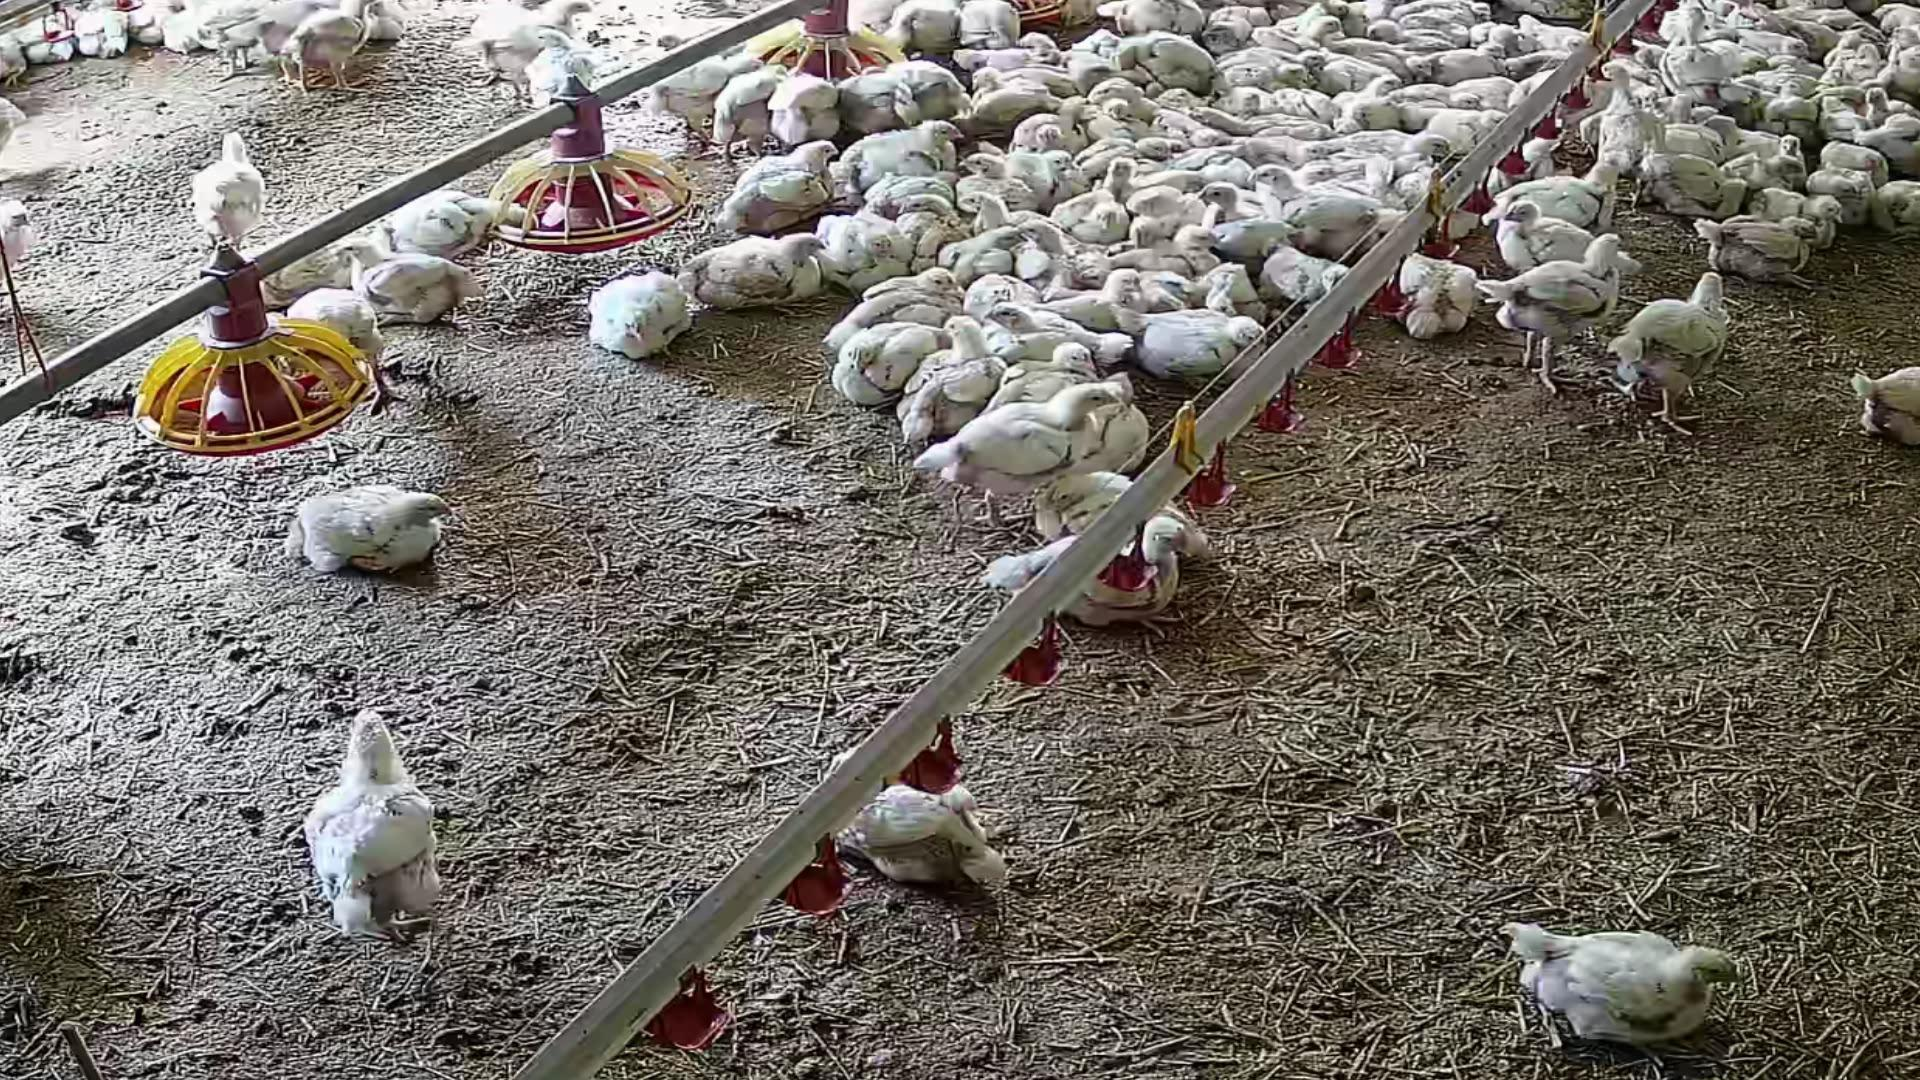poussin: (1505, 911, 1750, 1058), (298, 705, 447, 945), (822, 750, 1019, 913), (993, 512, 1188, 630), (1613, 276, 1742, 436), (1487, 220, 1633, 361), (278, 488, 467, 593), (948, 375, 1118, 476), (1480, 154, 1633, 248), (365, 187, 551, 261), (1047, 372, 1153, 495), (446, 0, 570, 104), (819, 319, 956, 413), (897, 319, 1005, 436), (223, 233, 384, 309), (342, 255, 489, 336), (276, 291, 396, 390), (1501, 204, 1642, 284), (189, 138, 276, 264), (673, 229, 827, 291), (1031, 477, 1185, 539), (1394, 240, 1486, 340), (286, 0, 384, 94), (832, 291, 971, 353), (990, 335, 1106, 407), (588, 276, 695, 353), (985, 307, 1120, 368), (1247, 166, 1379, 227), (836, 119, 965, 179), (531, 22, 621, 109), (1131, 313, 1261, 372), (702, 66, 793, 149), (185, 0, 289, 73), (770, 66, 852, 157), (644, 51, 757, 115), (729, 152, 833, 220), (1596, 61, 1658, 175), (1844, 361, 1920, 452), (1639, 157, 1738, 227), (1137, 315, 1267, 368), (1691, 215, 1804, 276), (1751, 183, 1841, 257), (965, 66, 1069, 120), (1486, 123, 1573, 187), (833, 66, 910, 136), (1267, 244, 1354, 303), (1118, 29, 1211, 83), (1052, 266, 1145, 320), (819, 218, 909, 273), (0, 193, 42, 307), (884, 65, 960, 128), (1211, 181, 1279, 251), (960, 189, 1048, 243), (1021, 28, 1108, 82), (1813, 133, 1898, 186), (869, 0, 963, 47), (948, 216, 1018, 276), (963, 0, 1027, 63), (1804, 161, 1866, 224), (1680, 11, 1729, 84), (1634, 119, 1733, 153), (1341, 131, 1457, 160), (1754, 4, 1832, 46), (1155, 261, 1240, 299), (865, 174, 959, 208), (1332, 66, 1410, 107), (1077, 103, 1153, 145), (1133, 190, 1196, 240), (1060, 186, 1125, 233), (1516, 36, 1589, 78), (1098, 1, 1203, 29), (1453, 78, 1528, 116), (1021, 216, 1073, 270), (955, 273, 1034, 307), (894, 225, 952, 272), (1390, 84, 1485, 112), (1407, 8, 1480, 44), (1124, 165, 1226, 190), (1424, 47, 1502, 80), (1204, 4, 1263, 46), (1010, 116, 1080, 152), (1865, 193, 1920, 237), (869, 264, 947, 295), (1193, 102, 1274, 132), (1233, 137, 1328, 162), (1013, 150, 1065, 195), (1370, 22, 1455, 50), (1865, 86, 1920, 128), (1518, 69, 1567, 116), (0, 80, 42, 135), (1768, 80, 1817, 127), (1524, 20, 1596, 50), (1357, 51, 1432, 79), (1088, 82, 1162, 109), (1385, 3, 1486, 22), (1284, 17, 1345, 49), (953, 152, 1017, 181), (902, 194, 964, 223), (1159, 82, 1217, 112), (1636, 41, 1677, 83), (1167, 113, 1218, 146), (1216, 88, 1275, 115), (1225, 69, 1308, 87), (1278, 90, 1331, 117), (1226, 50, 1332, 63), (1854, 36, 1887, 76), (1778, 125, 1796, 196), (1484, 21, 1530, 49), (1255, 125, 1332, 141), (1112, 140, 1172, 160), (1465, 18, 1506, 47), (1336, 1, 1369, 37), (1089, 99, 1133, 123), (1882, 7, 1920, 33), (1305, 0, 1353, 21), (1735, 50, 1766, 82), (1818, 58, 1847, 91), (1891, 55, 1920, 87), (1891, 26, 1920, 50), (1783, 37, 1808, 62), (1288, 167, 1331, 181)
